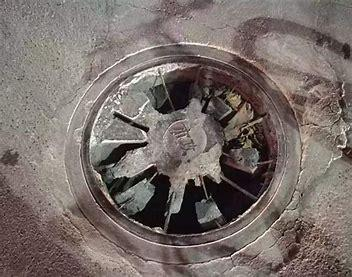wellcover: (67, 47, 293, 250)
